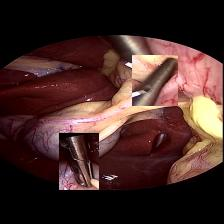Grasper: (132, 54, 178, 105), (59, 132, 99, 189)
